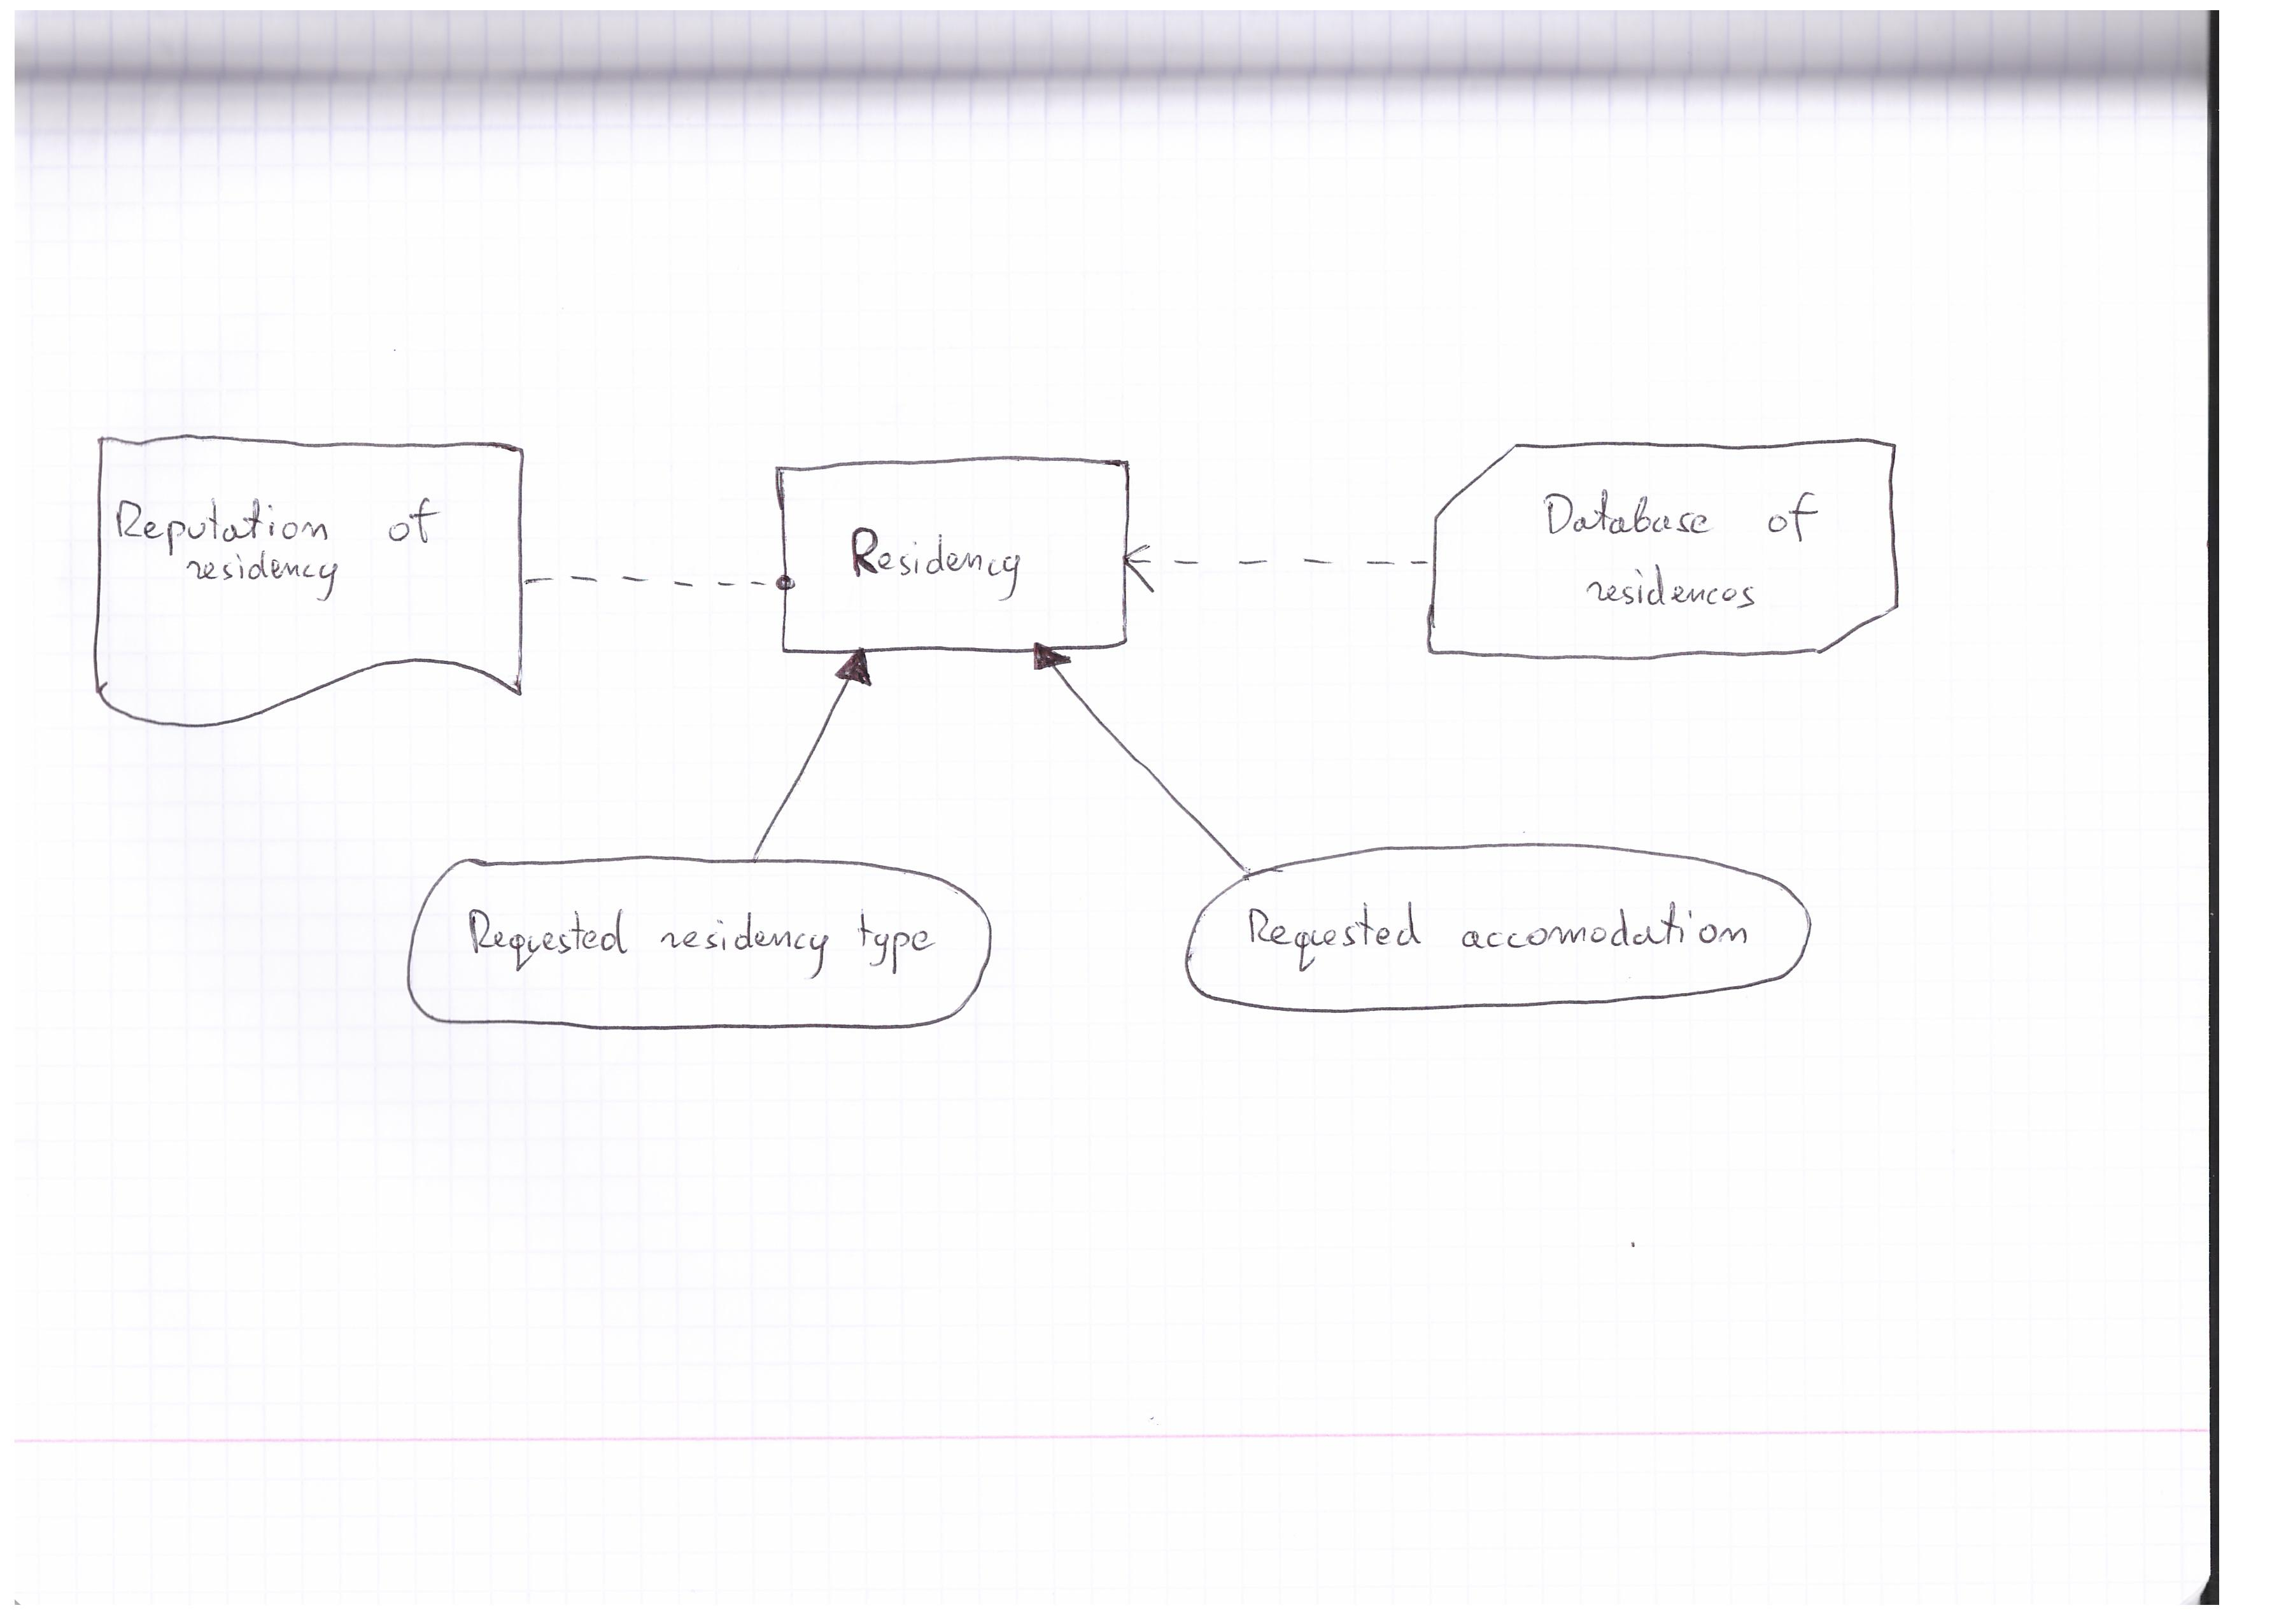arrow_authority_requirement: (524, 545, 798, 610)
arrow_information_requirement: (1014, 638, 1260, 879), (734, 642, 887, 863)
arrow_knowledge_requirement: (1119, 533, 1430, 606)
node_decision: (771, 446, 1132, 654)
node_input_data: (390, 845, 1010, 1058), (1183, 835, 1824, 1040)
node_knowledge_model: (1429, 431, 1917, 673)
node_knowledge_source: (81, 424, 529, 731)
text: (1518, 466, 1849, 627), (460, 888, 944, 990), (111, 480, 466, 612), (1241, 893, 1762, 972), (835, 508, 1040, 610)
